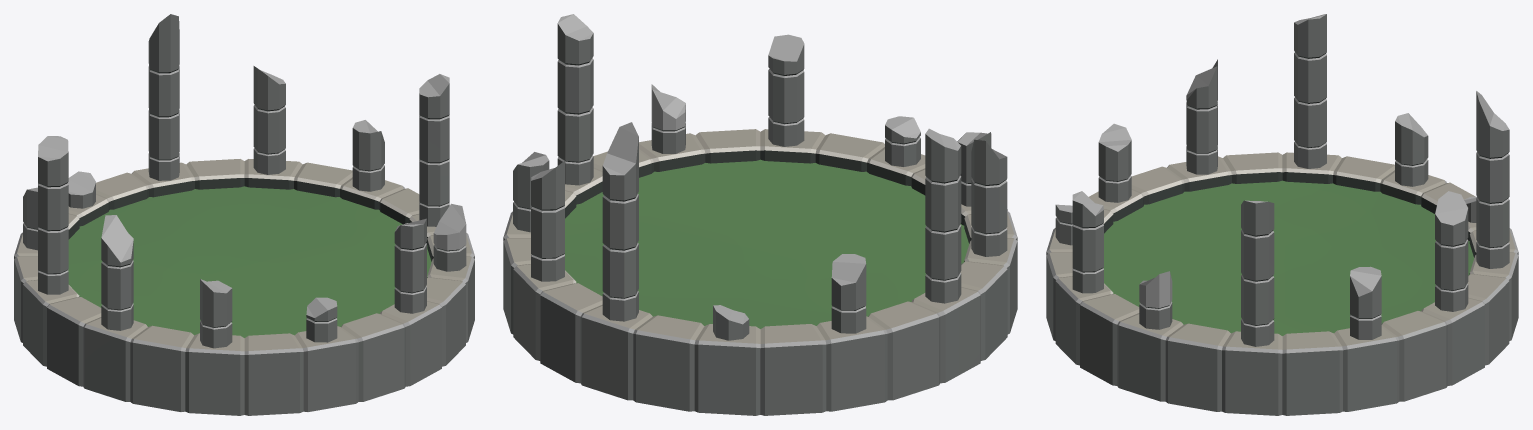
File: pool.fbx
3 views of the same model, side by side, from view 1: azimuth 30°, elevation 25°; view 2: azimuth 150°, elevation 25°; view 3: azimuth 270°, elevation 25° (orthographic). The views are drawn at different scales.
Parts seen in each view (by area): view 1: Cylinder.001, Cylinder.002; view 2: Cylinder.001, Cylinder.002; view 3: Cylinder.001, Cylinder.002.
Boxes of the visible parts, box(x1,y1,x2,y2) form: Cylinder.001: box(14, 14, 474, 415); Cylinder.002: box(68, 186, 431, 337); Cylinder.001: box(503, 14, 1017, 415); Cylinder.002: box(565, 159, 969, 328); Cylinder.001: box(1046, 14, 1518, 415); Cylinder.002: box(1103, 180, 1474, 335).
Bounding box in the file's own units: 841 × 464 × 841.
